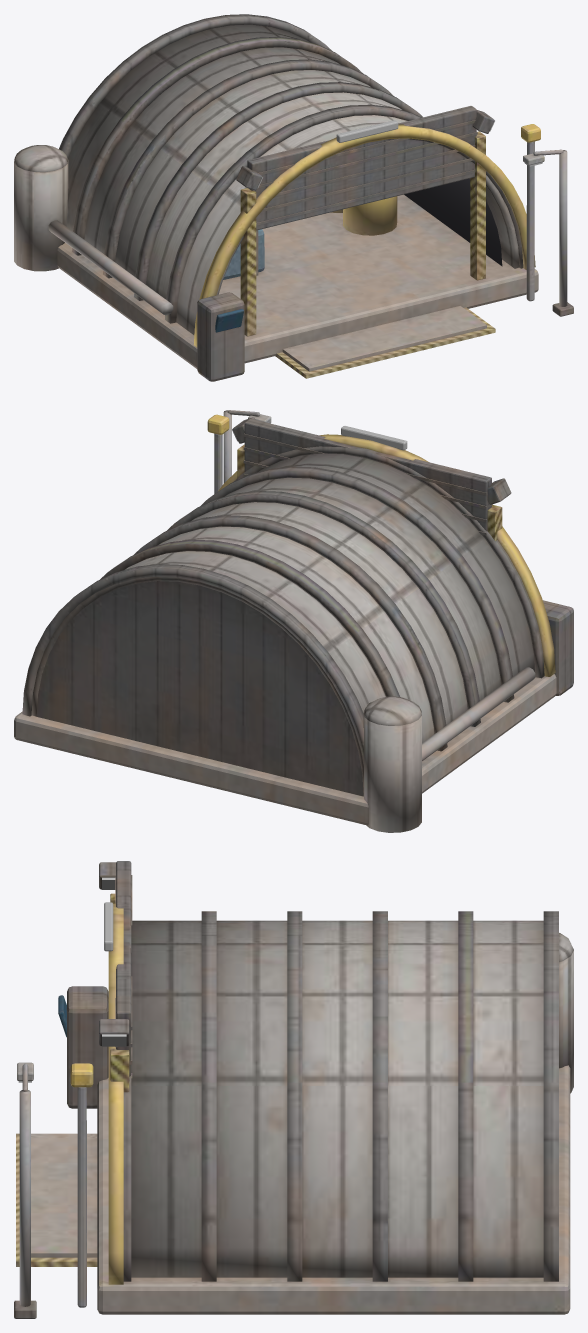
Rendered from storehouse.glb.
3 views of the same model, one above another, from view 1: azimuth 30°, elevation 25°; view 2: azimuth 150°, elevation 25°; view 3: azimuth 270°, elevation 25° (orthographic). The views are drawn at different scales.
Visible parts, largest first — view 1: storehouse, Glow; view 2: storehouse, Glow; view 3: storehouse, Glow.
Boxes of the visible parts, bbox=[...] form: storehouse: bbox=[14, 14, 573, 381]; Glow: bbox=[257, 120, 542, 188]; storehouse: bbox=[14, 410, 573, 832]; Glow: bbox=[232, 426, 407, 450]; storehouse: bbox=[14, 861, 573, 1318]; Glow: bbox=[18, 877, 126, 1082].
Bounding box in the file's own units: 3.11 × 1.64 × 2.96.
Materials: 2 (1 with a texture image).
